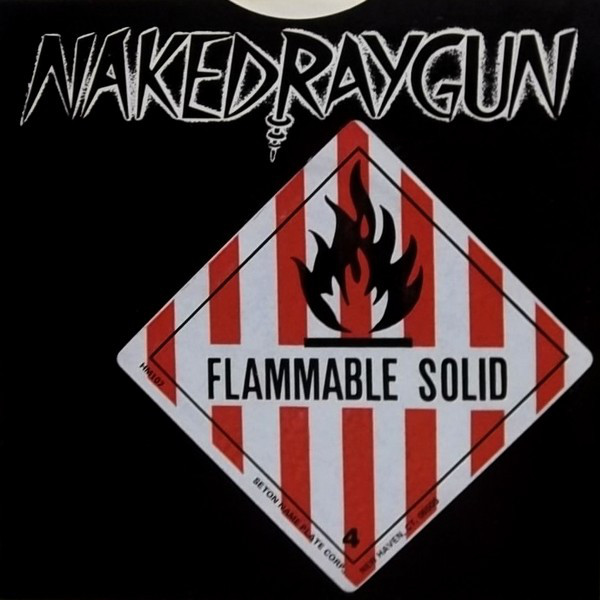FlammableSolid: (183, 146, 558, 548)
